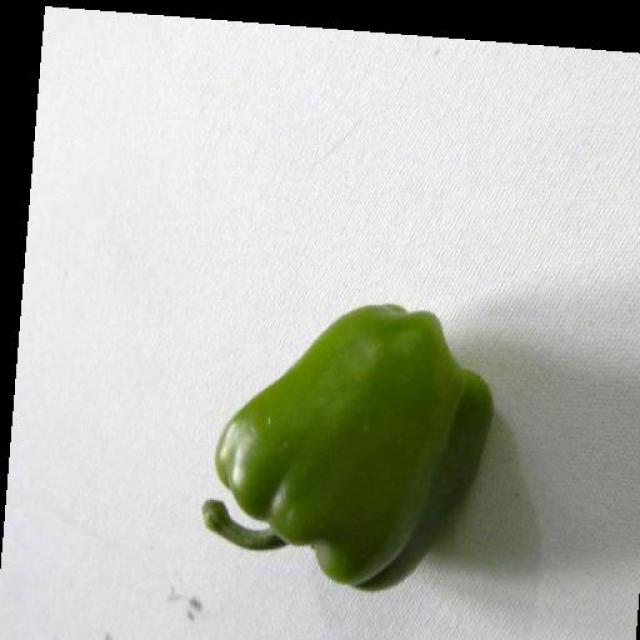Fresh_Capsicum: (213, 241, 501, 595)
